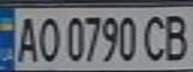0: (118, 11, 142, 63), (63, 12, 84, 63)
7: (81, 12, 103, 63)
9: (100, 12, 121, 63)
A: (12, 12, 42, 63)
B: (160, 10, 193, 63)
C: (139, 11, 172, 62)
O: (33, 12, 60, 63)
